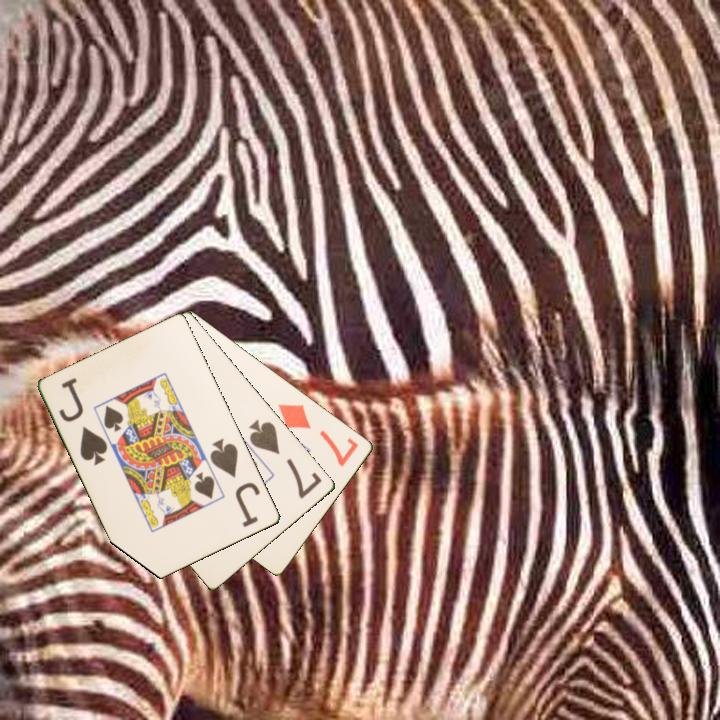7d: (275, 400, 362, 469)
7s: (246, 415, 325, 502)
Js: (207, 435, 264, 530), (55, 374, 111, 469)
